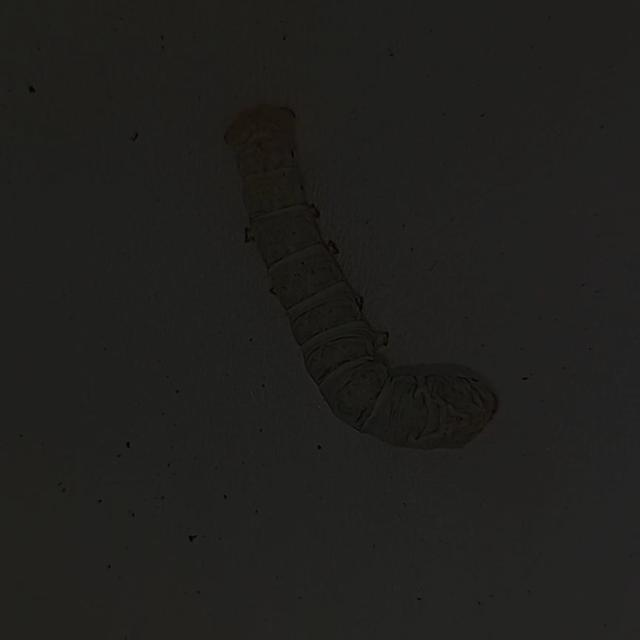Healthy: (199, 80, 515, 474)
